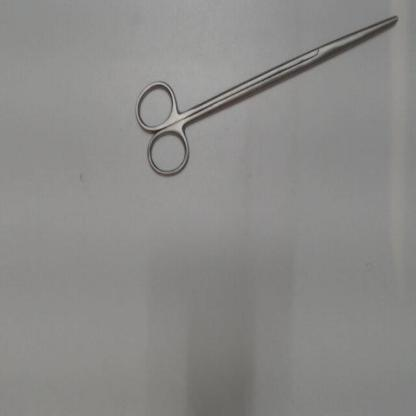9 Metzenbaum Scissors: (129, 13, 403, 185)
